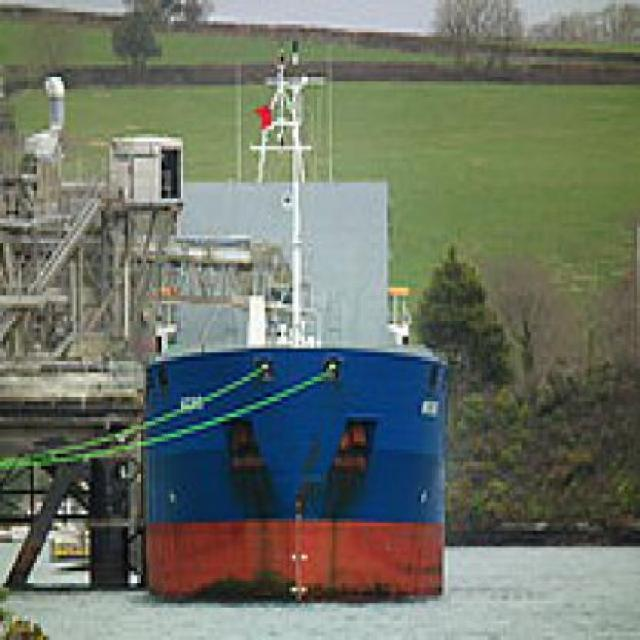container: (135, 41, 458, 609)
